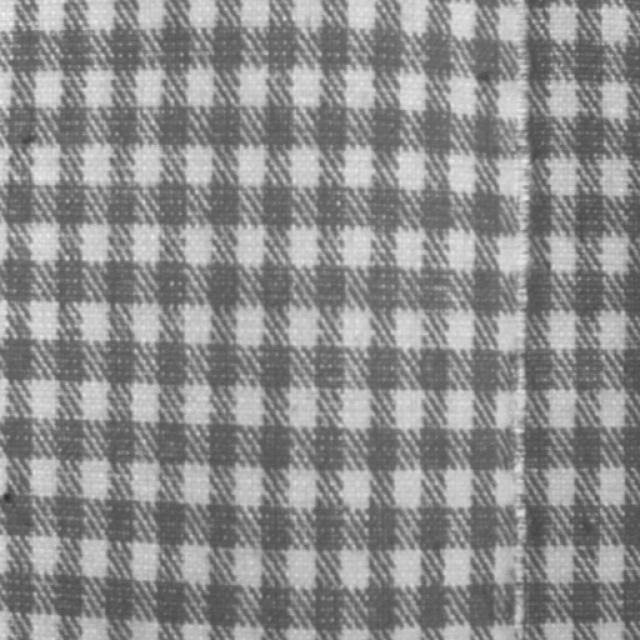Thread-Defect: (494, 152, 530, 639), (521, 2, 530, 149)
